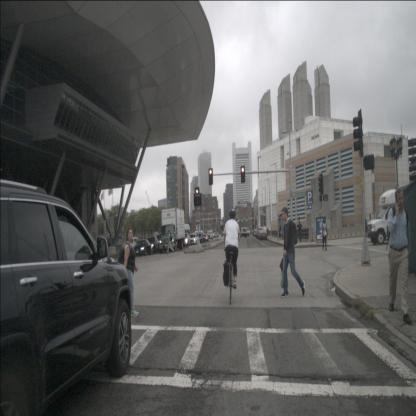human-pedestrian-adult: (387, 188, 413, 324), (280, 207, 305, 298), (118, 226, 139, 318), (166, 229, 175, 255), (321, 218, 328, 251), (297, 221, 302, 243), (267, 227, 269, 238)
movable_object-barrier: (350, 224, 366, 238), (338, 227, 350, 239), (328, 228, 338, 239)
movable_object-trafficcone: (312, 229, 328, 240)
vehicle-bicycle: (220, 236, 242, 306)
vehicle-car: (0, 180, 134, 414), (144, 235, 160, 255), (134, 239, 150, 256), (180, 230, 192, 248), (188, 230, 199, 247), (259, 229, 270, 240), (201, 230, 209, 244), (240, 227, 250, 238)
vehicle-truck: (367, 189, 416, 245), (157, 208, 186, 254)
